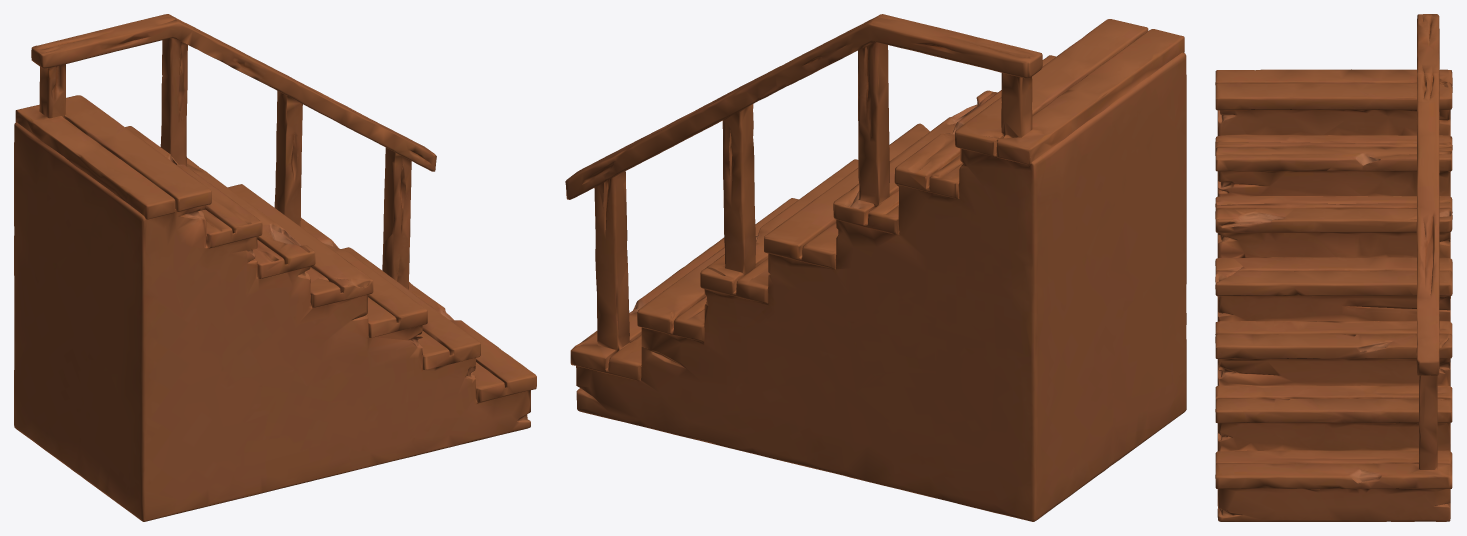
The model's file is stairs_wood_derevyannaya_idle.glb.
3 renders of one model, left to right at view 1: azimuth 30°, elevation 25°; view 2: azimuth 150°, elevation 25°; view 3: azimuth 270°, elevation 25°, orthographic. The views are drawn at different scales.
Parts seen in each view (by area): view 1: tripo_node_25f32728-254a-42ba-b9e8-b3d69543df07; view 2: tripo_node_25f32728-254a-42ba-b9e8-b3d69543df07; view 3: tripo_node_25f32728-254a-42ba-b9e8-b3d69543df07.
Part boxes in pixels (x1=…): tripo_node_25f32728-254a-42ba-b9e8-b3d69543df07: x1=14, y1=14, x2=536, y2=521; tripo_node_25f32728-254a-42ba-b9e8-b3d69543df07: x1=565, y1=14, x2=1186, y2=521; tripo_node_25f32728-254a-42ba-b9e8-b3d69543df07: x1=1215, y1=14, x2=1452, y2=521.
Size of the model in its own units: 2.88 by 2.6 by 1.62.
1 material, 1 textured.
